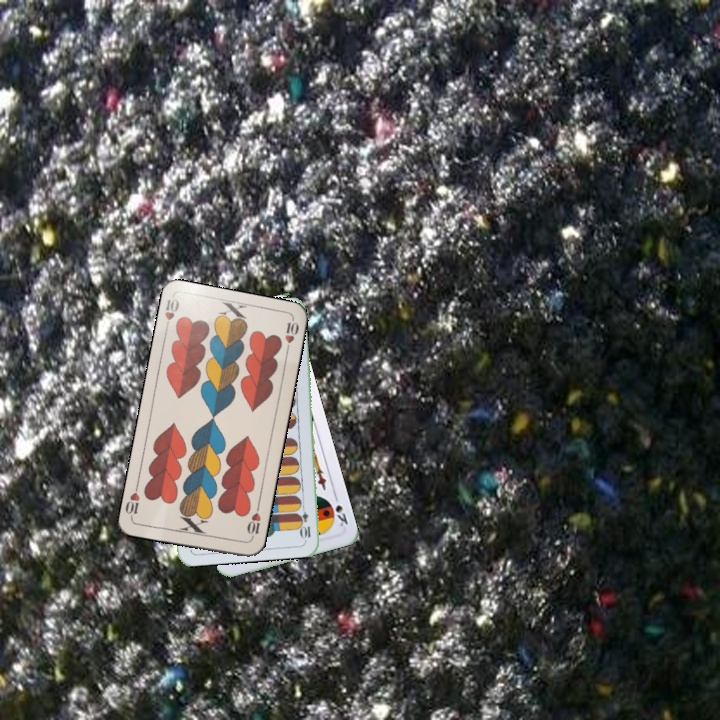E10: (297, 500, 313, 541)
H10: (243, 502, 264, 542), (161, 295, 182, 334)
SK: (330, 490, 350, 529)
